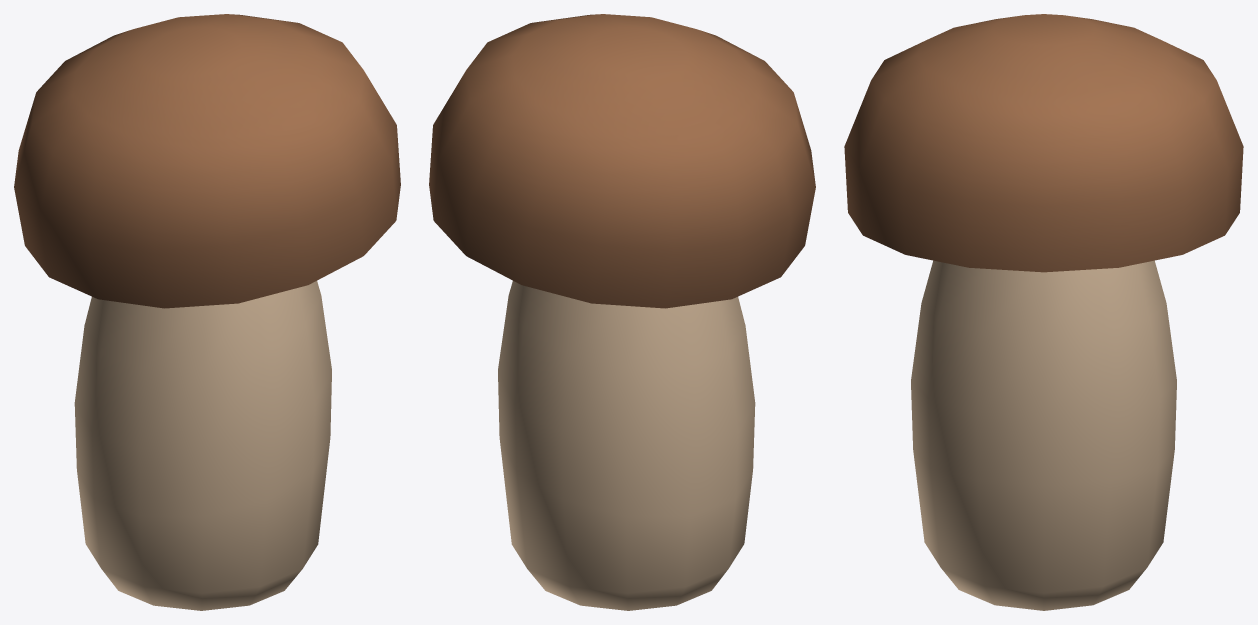
Rendered from Mushroom_04.fbx.
3 renders of one model, left to right at view 1: azimuth 30°, elevation 25°; view 2: azimuth 150°, elevation 25°; view 3: azimuth 270°, elevation 25°, orthographic. The views are drawn at different scales.
Visible parts, largest first — view 1: Mushroom_04_LOD0; view 2: Mushroom_04_LOD0; view 3: Mushroom_04_LOD0.
Part boxes in pixels (bbox=[...]): Mushroom_04_LOD0: bbox=[14, 14, 400, 610]; Mushroom_04_LOD0: bbox=[429, 14, 815, 610]; Mushroom_04_LOD0: bbox=[844, 14, 1243, 610].
Size of what is drawn, in the model's own units: 0.122 by 0.1842 by 0.1214.
